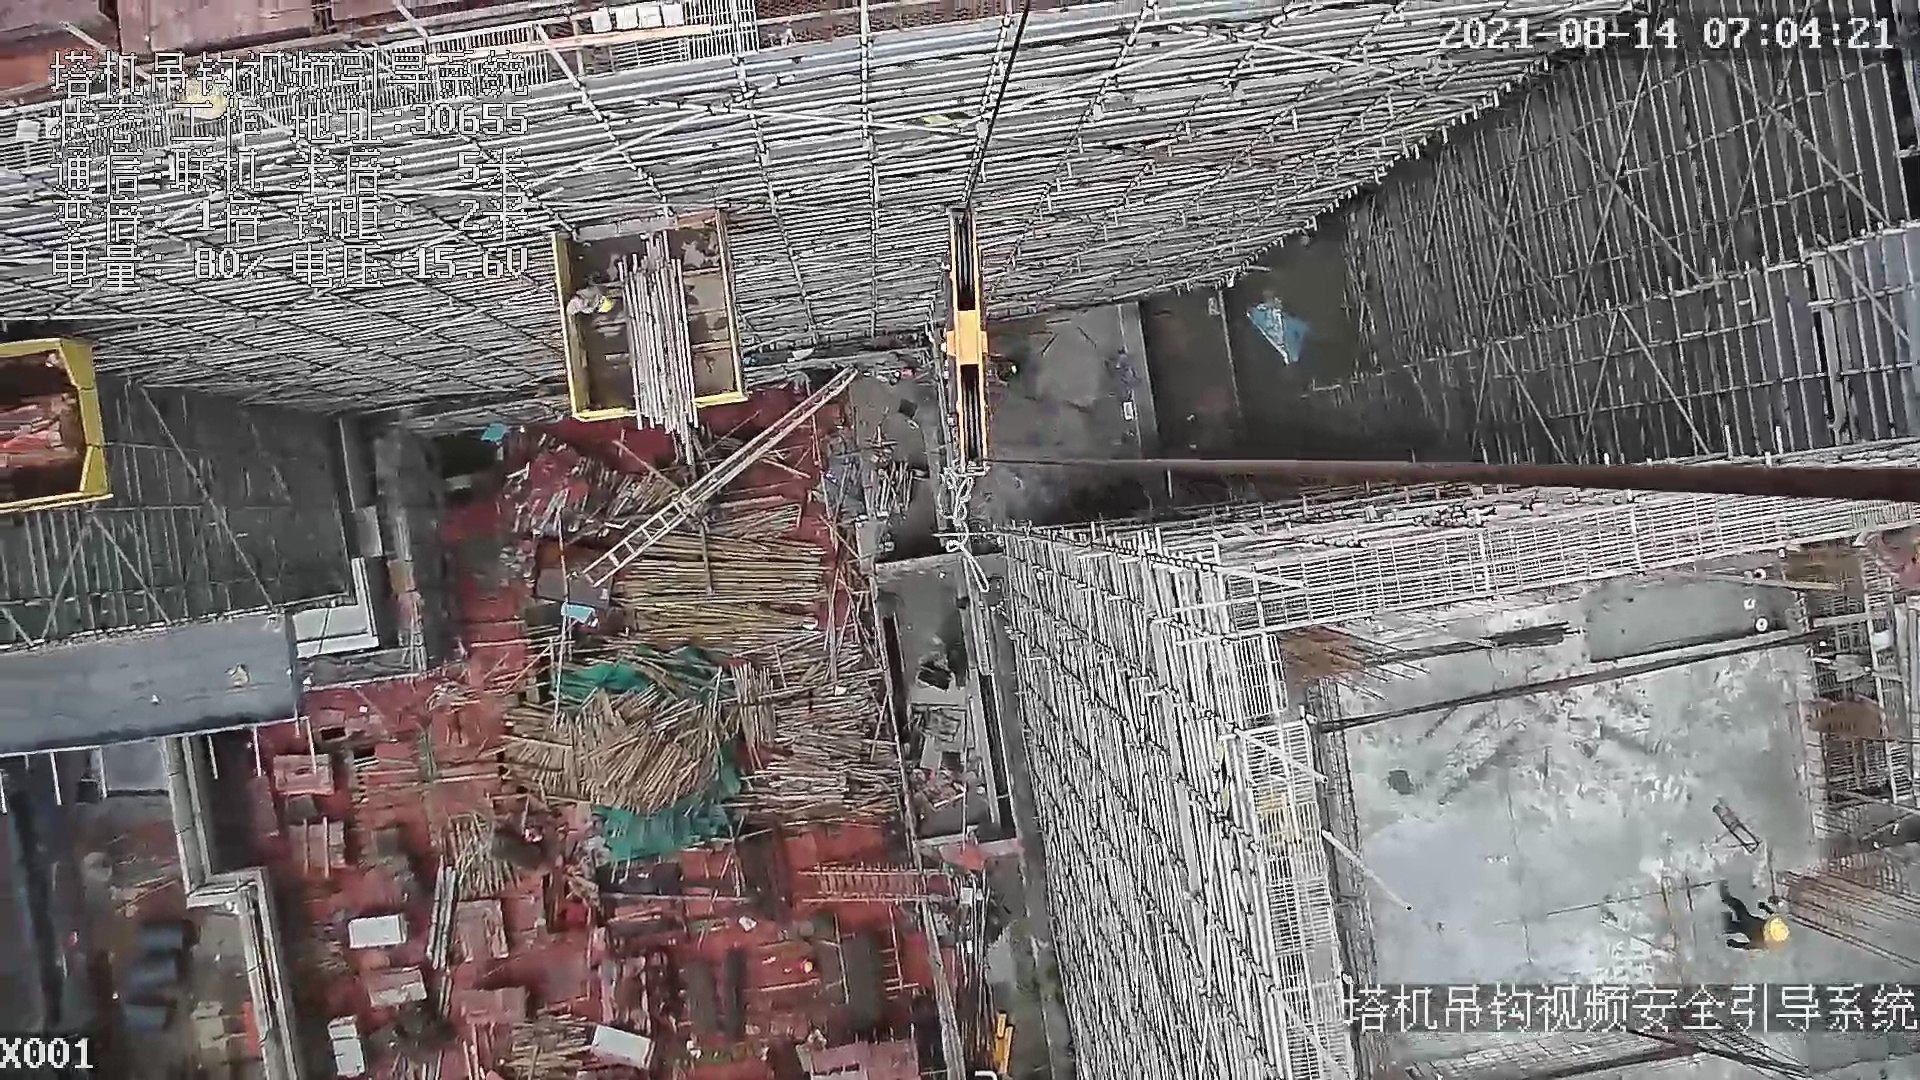hook: (927, 206, 999, 478)
person: (1720, 883, 1792, 960), (565, 278, 620, 326)
